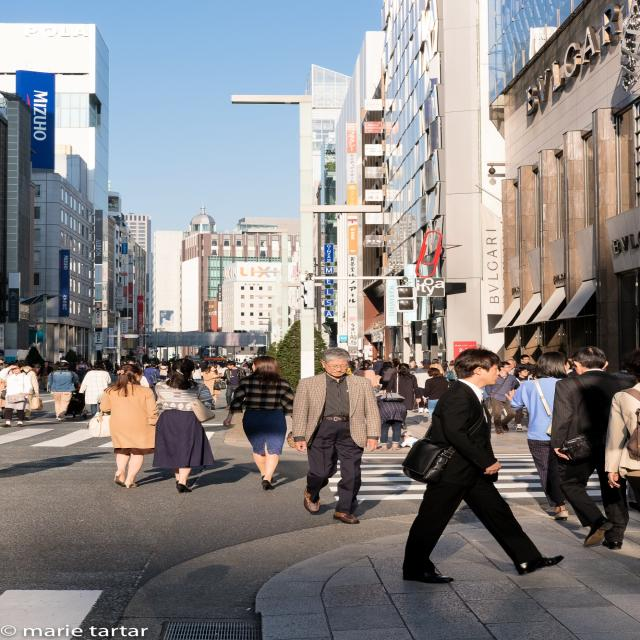body: (400, 347, 568, 585), (548, 345, 638, 551), (290, 347, 383, 525), (221, 354, 300, 492), (509, 351, 571, 522), (149, 356, 218, 493), (98, 363, 160, 490), (602, 370, 640, 498), (7, 352, 164, 371), (348, 354, 458, 378), (484, 361, 517, 435), (386, 363, 422, 429), (0, 363, 31, 428), (46, 360, 78, 421), (78, 361, 112, 418), (376, 392, 408, 451), (16, 360, 44, 420), (216, 360, 248, 411), (512, 367, 536, 432), (422, 367, 449, 421), (202, 362, 226, 410), (413, 359, 433, 413), (502, 358, 520, 418), (354, 362, 378, 398), (142, 362, 161, 402), (378, 361, 398, 395), (35, 360, 55, 390), (0, 363, 7, 419), (396, 431, 419, 448), (514, 354, 536, 371), (428, 358, 446, 378), (76, 360, 90, 384), (30, 364, 42, 391), (372, 356, 386, 376), (446, 360, 457, 384), (191, 363, 203, 383), (159, 362, 169, 382), (408, 362, 418, 376), (440, 360, 449, 373), (242, 364, 251, 376), (390, 358, 401, 367), (216, 364, 222, 374), (200, 360, 208, 364), (0, 358, 5, 363)
